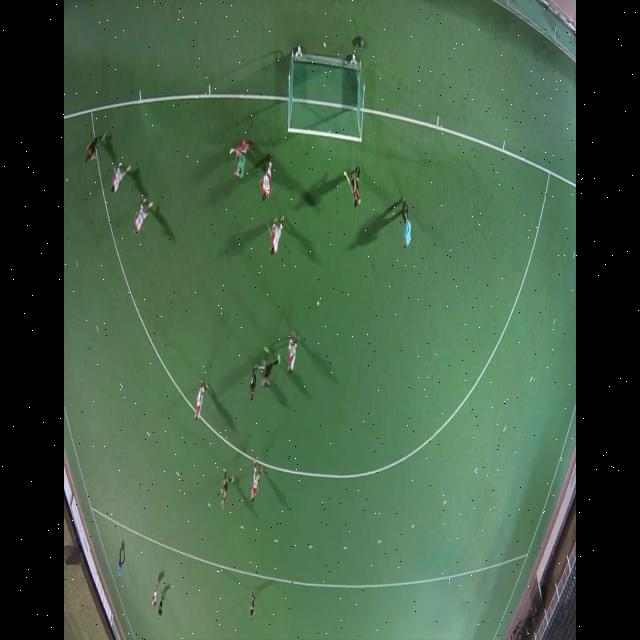humans: (107, 152, 134, 198), (262, 210, 287, 259), (131, 192, 156, 241), (257, 342, 280, 394), (228, 134, 250, 185), (341, 161, 362, 212), (192, 372, 210, 423), (80, 129, 102, 169), (257, 155, 273, 207), (284, 330, 300, 378), (400, 201, 413, 259), (217, 464, 233, 506), (248, 357, 260, 407), (250, 461, 262, 505), (248, 586, 259, 624), (115, 554, 126, 586), (150, 581, 158, 610), (156, 592, 164, 618)
